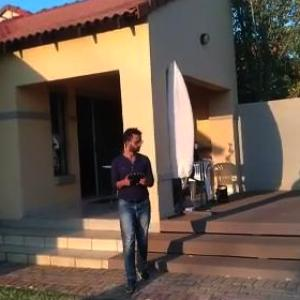follow: (108, 122, 159, 294)
